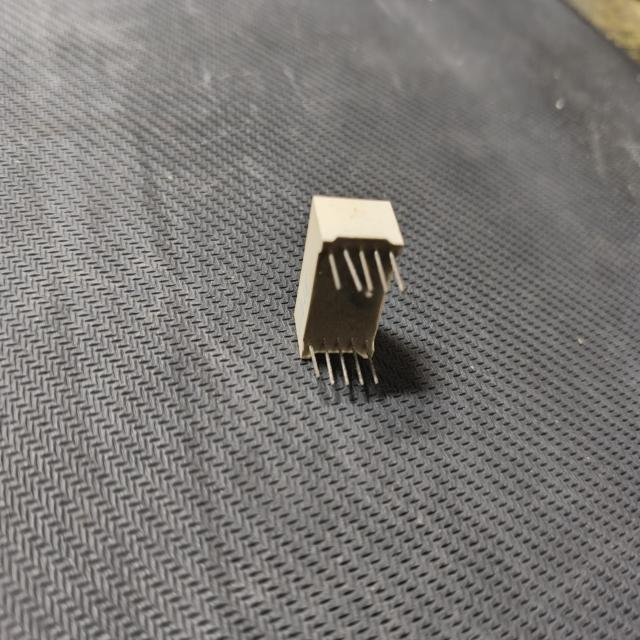sevensegment: (284, 182, 418, 414)
